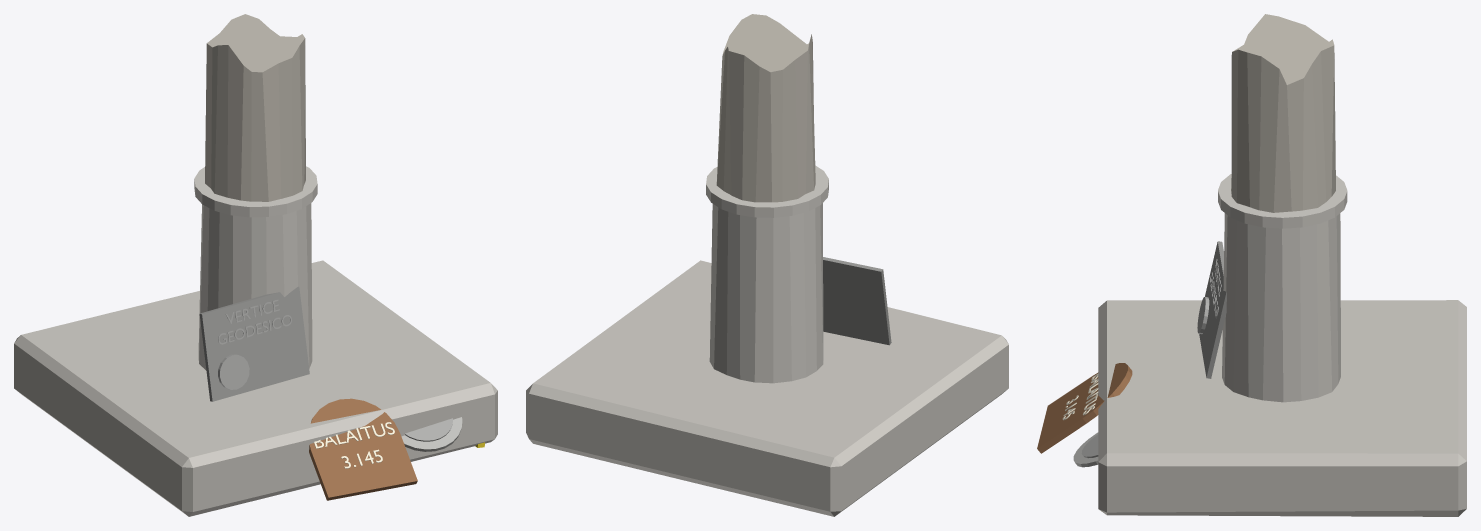
Rendered from cima-balaitus.glb.
The picture shows the model from 3 angles, left to right: view 1: azimuth 30°, elevation 25°; view 2: azimuth 150°, elevation 25°; view 3: azimuth 270°, elevation 25°; orthographic projection. The views are drawn at different scales.
Parts seen in each view (by area): view 1: losa, pilar_superior, pilar_inferior, placa_chapa, cartel_arco, cartel_tabla, anillo, emblema, medallon_disco, medallon_relieve; view 2: losa, pilar_inferior, pilar_superior, placa_chapa, anillo; view 3: losa, pilar_inferior, pilar_superior, anillo, cartel_arco, placa_chapa, cartel_tabla.
Part boxes in pixels (box(x1,y1,x2,y2)): losa: box(14, 260, 497, 516); pilar_superior: box(205, 14, 305, 201); pilar_inferior: box(198, 203, 312, 370); placa_chapa: box(199, 286, 309, 401); cartel_arco: box(309, 398, 402, 484); cartel_tabla: box(309, 433, 417, 500); anillo: box(194, 166, 317, 217); emblema: box(218, 354, 249, 389); medallon_disco: box(401, 417, 462, 451); medallon_relieve: box(405, 418, 452, 441); losa: box(526, 260, 1008, 516); pilar_inferior: box(709, 203, 823, 383); pilar_superior: box(716, 14, 815, 202); placa_chapa: box(823, 257, 891, 345); anillo: box(706, 165, 828, 217); losa: box(1098, 300, 1466, 516); pilar_inferior: box(1222, 213, 1340, 402); pilar_superior: box(1231, 14, 1335, 212); anillo: box(1218, 174, 1347, 228); cartel_arco: box(1047, 363, 1132, 430); placa_chapa: box(1199, 241, 1226, 378); cartel_tabla: box(1037, 376, 1092, 453).
Bounding box in the file's own units: 1.12 × 1.32 × 1.26.
